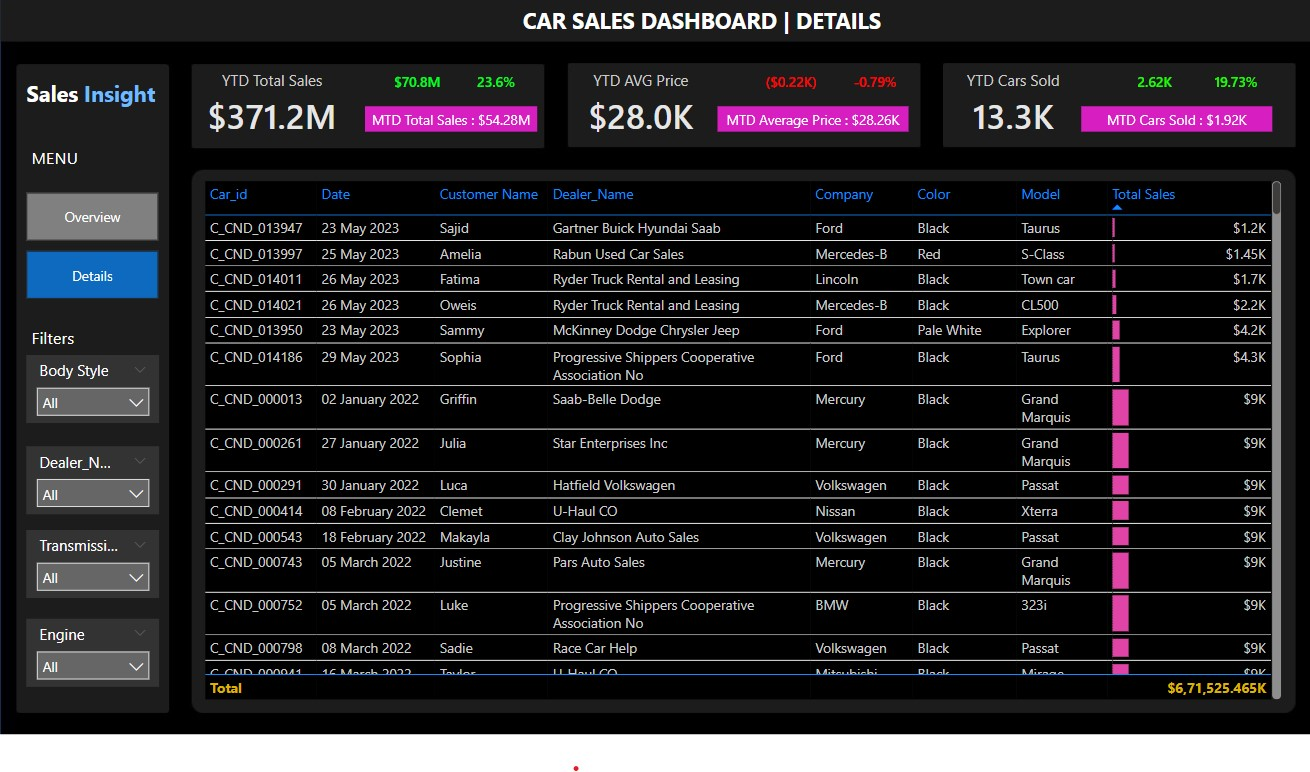

The page's visual inventory and layout, read from the dashboard file:
{"tool":"powerbi","page":{"name":"Details","canvas":[1280,720],"ordinal":1},"visuals":[{"type":"card","title":"YTD Total Sales","fields":{"Values":["car_data.YTD Total Sales"]},"box":[192.6,67.9,145.7,70.4],"z":0},{"type":"card","fields":{"Values":["car_data.Sales Difference"]},"box":[374.1,67.9,65.4,25.9],"z":1000},{"type":"card","fields":{"Values":["car_data.YoY Sales Growth"]},"box":[450.6,67.9,65.4,25.9],"z":2000},{"type":"card","fields":{"Values":["car_data.MTD KPI"]},"box":[355.6,103.7,167.9,24.7],"z":3000},{"type":"card","title":"YTD AVG Price","fields":{"Values":["car_data.YTD Average Price"]},"box":[559.3,67.9,130.9,70.4],"z":4000},{"type":"card","fields":{"Values":["car_data.Average Price Difference"]},"box":[739.5,67.9,65.4,25.9],"z":5000},{"type":"card","fields":{"Values":["car_data.YOY Average Price Growth"]},"box":[821,67.9,65.4,25.9],"z":6000},{"type":"card","fields":{"Values":["car_data.MTD Average Price KPI"]},"box":[700,103.7,186.4,24.7],"z":7000},{"type":"card","title":"YTD Cars Sold","fields":{"Values":["car_data.YTD Cars Sold"]},"box":[923.5,67.9,130.9,70.4],"z":8000},{"type":"card","fields":{"Values":["car_data.Cars Sold Difference"]},"box":[1093.8,67.9,65.4,25.9],"z":9000},{"type":"card","fields":{"Values":["car_data.YOY Cars Sold Growth"]},"box":[1172.8,67.9,65.4,25.9],"z":10000},{"type":"card","fields":{"Values":["car_data.MTD Cars Sold KPI"]},"box":[1054.3,103.7,186.4,24.7],"z":11000},{"type":"textbox","box":[504.7,0,381.2,40.6],"z":12000},{"type":"slicer","fields":{"Values":["car_data.Body Style"]},"box":[25.7,345.9,129.7,66.2],"z":13000},{"type":"slicer","fields":{"Values":["car_data.Dealer_Name"]},"box":[25.7,435.1,129.7,66.2],"z":14000},{"type":"slicer","fields":{"Values":["car_data.Transmission"]},"box":[25.7,517.6,129.7,66.2],"z":15000},{"type":"slicer","fields":{"Values":["car_data.Engine"]},"box":[25.7,604.1,129.7,66.2],"z":16000},{"type":"textbox","box":[25.7,313.5,64.9,32.4],"z":17000},{"type":"tableEx","fields":{"Values":["car_data.Car_id","car_data.Date","car_data.Customer Name","car_data.Dealer_Name","car_data.Company","car_data.Color","car_data.Model","car_data.Price ($)"]},"box":[193.8,171.9,1060.9,515.6],"z":18000},{"type":"textbox","box":[20.3,71.9,146.9,43.8],"z":19000},{"type":"textbox","box":[25,137.5,70.3,34.4],"z":20000},{"type":"pageNavigator","box":[25,187.5,129.7,104.7],"z":20001}]}

Visuals, with their boxes on the page's 1280x720 design canvas (x1, y1, x2, y2). These are canvas units, not pixel positions in the 1310x772 screenshot, which may show the page scaled, cropped or inside an application window:
"YTD Total Sales" card: 193, 68, 338, 138
card - car_data.Sales Difference: 374, 68, 440, 94
card - car_data.YoY Sales Growth: 451, 68, 516, 94
card - car_data.MTD KPI: 356, 104, 524, 128
"YTD AVG Price" card: 559, 68, 690, 138
card - car_data.Average Price Difference: 740, 68, 805, 94
card - car_data.YOY Average Price Growth: 821, 68, 886, 94
card - car_data.MTD Average Price KPI: 700, 104, 886, 128
"YTD Cars Sold" card: 924, 68, 1054, 138
card - car_data.Cars Sold Difference: 1094, 68, 1159, 94
card - car_data.YOY Cars Sold Growth: 1173, 68, 1238, 94
card - car_data.MTD Cars Sold KPI: 1054, 104, 1241, 128
textbox: 505, 0, 886, 41
slicer - car_data.Body Style: 26, 346, 155, 412
slicer - car_data.Dealer_Name: 26, 435, 155, 501
slicer - car_data.Transmission: 26, 518, 155, 584
slicer - car_data.Engine: 26, 604, 155, 670
textbox: 26, 314, 91, 346
tableEx - car_data.Car_id x car_data.Date: 194, 172, 1255, 688
textbox: 20, 72, 167, 116
textbox: 25, 138, 95, 172
pageNavigator: 25, 188, 155, 292
